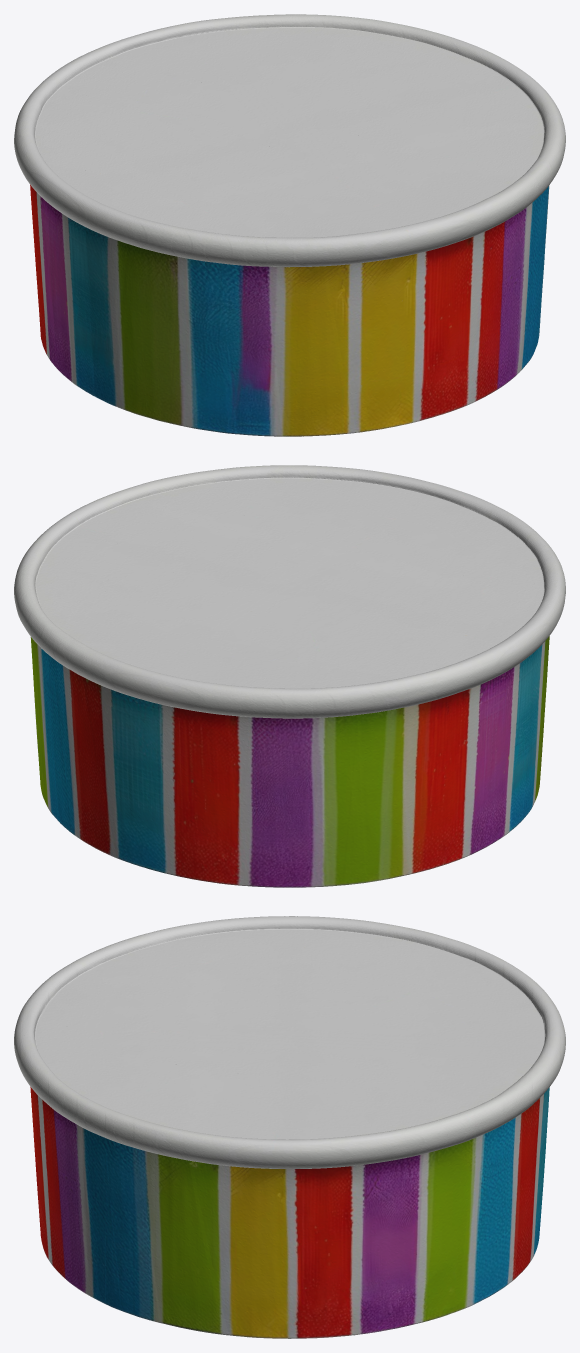
File: cup.glb
3 renders of one model, top to bottom at view 1: azimuth 30°, elevation 25°; view 2: azimuth 150°, elevation 25°; view 3: azimuth 270°, elevation 25°, orthographic.
Parts seen in each view (by area): view 1: tripo_node_79948d63-b532-4e16-9339-ed0193a86f27; view 2: tripo_node_79948d63-b532-4e16-9339-ed0193a86f27; view 3: tripo_node_79948d63-b532-4e16-9339-ed0193a86f27.
Boxes of the visible parts, left/top/right/bottom form: tripo_node_79948d63-b532-4e16-9339-ed0193a86f27: left=14, top=14, right=565, bottom=436; tripo_node_79948d63-b532-4e16-9339-ed0193a86f27: left=14, top=465, right=565, bottom=887; tripo_node_79948d63-b532-4e16-9339-ed0193a86f27: left=14, top=916, right=565, bottom=1338.
Bounding box in the file's own units: 0.9998 × 0.5139 × 1.
Materials: 1 (1 with a texture image).
